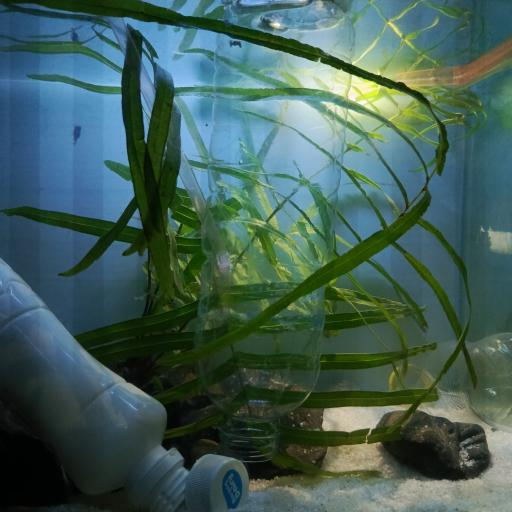bottle_cap: (205, 456, 245, 508)
plastic_bottle: (200, 0, 352, 464), (2, 258, 190, 507), (382, 334, 512, 420)
plastic_straw: (290, 50, 512, 86)
